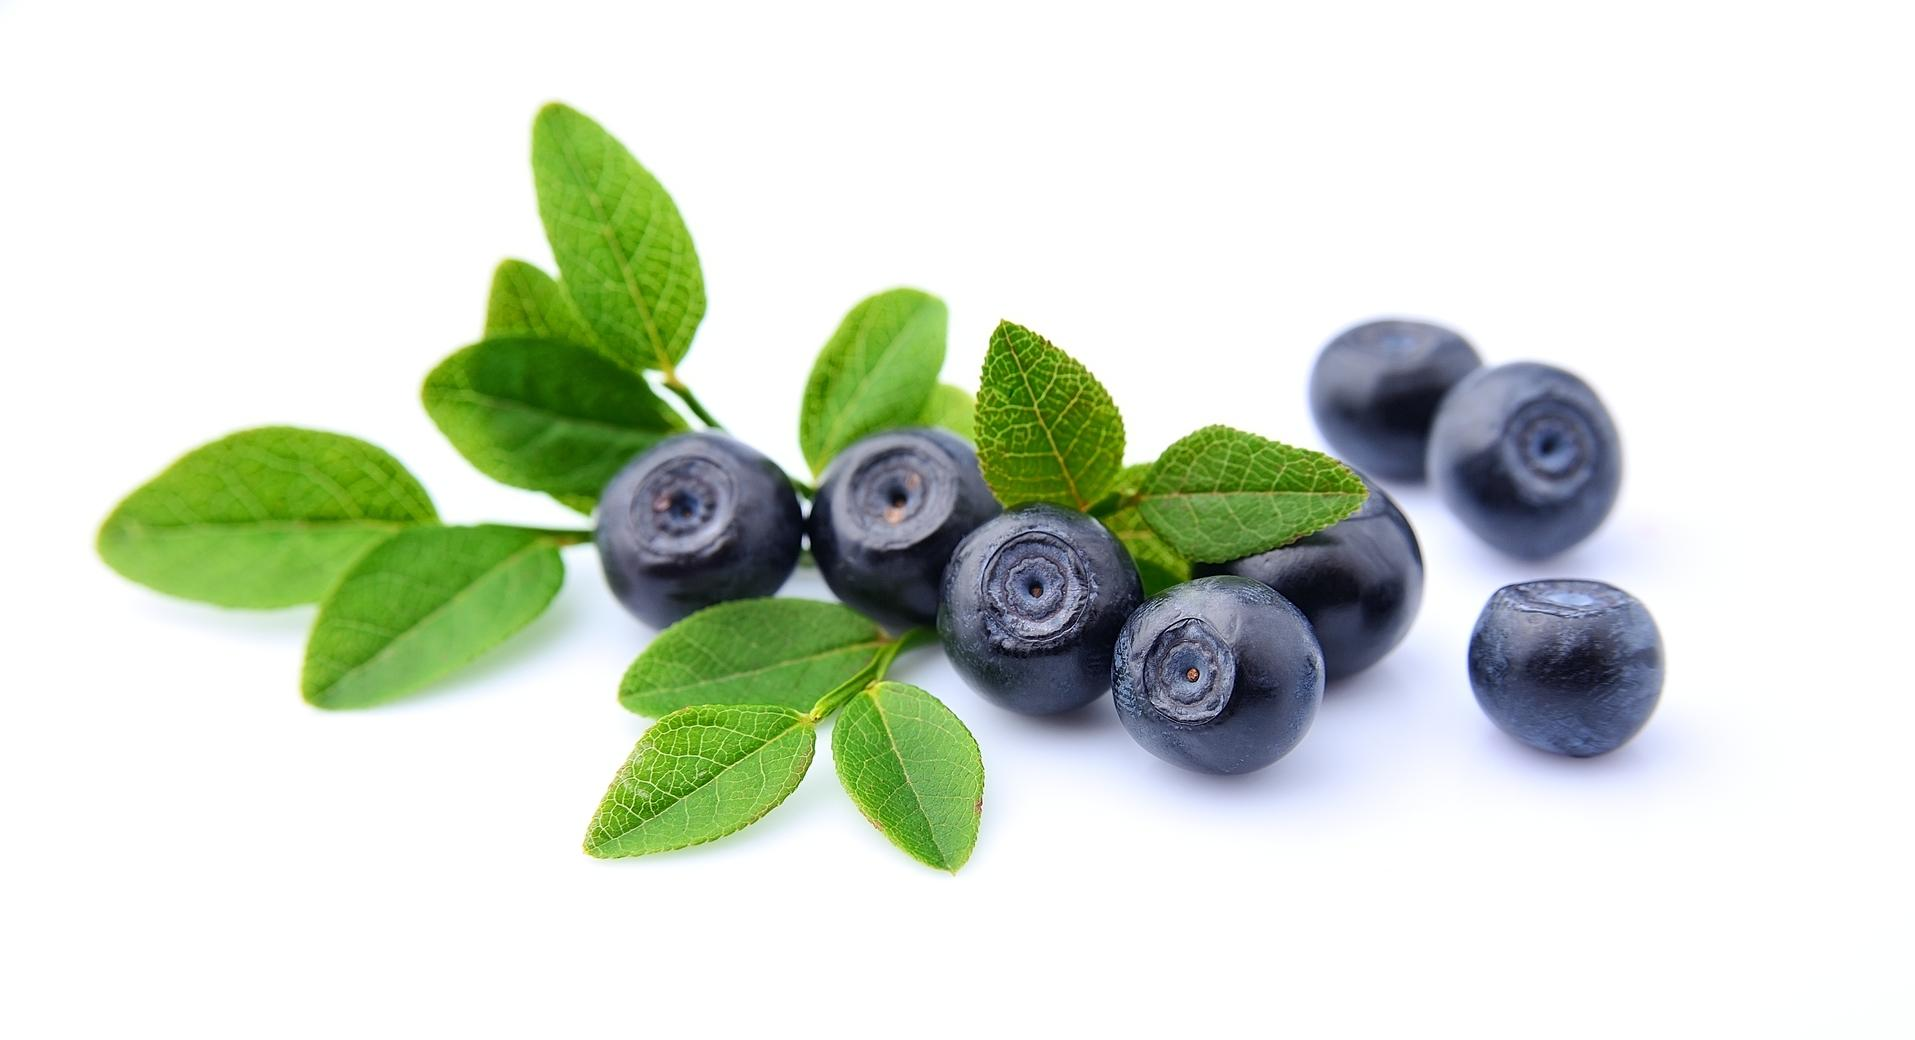Blueberry leaf: (516, 91, 730, 388), (293, 526, 568, 722), (827, 671, 1009, 900), (579, 702, 817, 868), (1135, 403, 1372, 567), (968, 315, 1116, 517)
